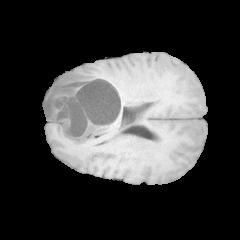glioma: (42, 72, 141, 142)
